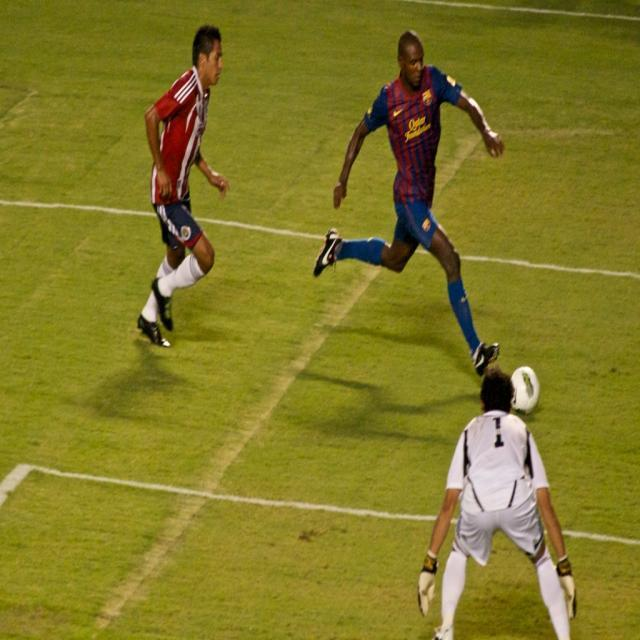football: (500, 364, 562, 407)
